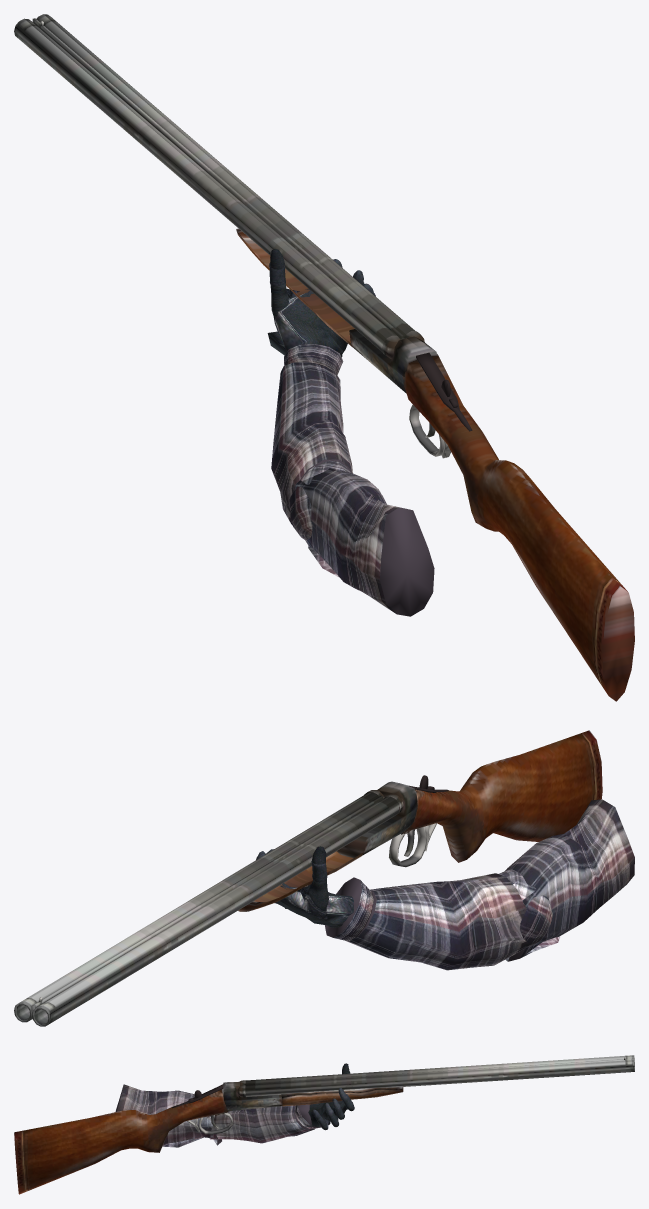
File: dbshotgun_adsfire.fbx
3 views of the same model, one above another, from view 1: azimuth 30°, elevation 25°; view 2: azimuth 150°, elevation 25°; view 3: azimuth 270°, elevation 25° (orthographic). The views are drawn at different scales.
Parts seen in each view (by area): view 1: dbshotgun, larm, lhand; view 2: dbshotgun, larm, lhand; view 3: dbshotgun, larm, lhand.
Boxes of the visible parts, left/top/right/bottom form: dbshotgun: left=14, top=14, right=634, bottom=701; larm: left=271, top=343, right=434, bottom=616; lhand: left=267, top=249, right=375, bottom=356; dbshotgun: left=14, top=730, right=602, bottom=1026; larm: left=325, top=799, right=634, bottom=970; lhand: left=256, top=846, right=354, bottom=927; dbshotgun: left=14, top=1055, right=634, bottom=1194; larm: left=115, top=1084, right=321, bottom=1147; lhand: left=305, top=1063, right=354, bottom=1130.
Size of the model in its own units: 11.13 by 13.61 by 55.84.
3 materials, 3 textured.
